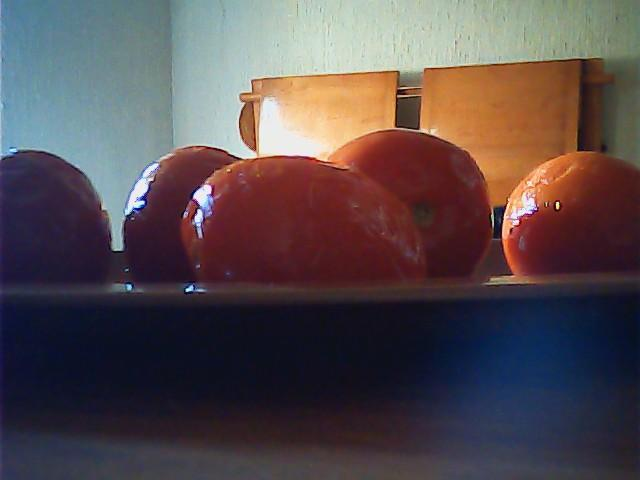maduro: (178, 153, 430, 285), (325, 130, 492, 279), (122, 143, 248, 285), (502, 156, 640, 277), (0, 146, 112, 291)
